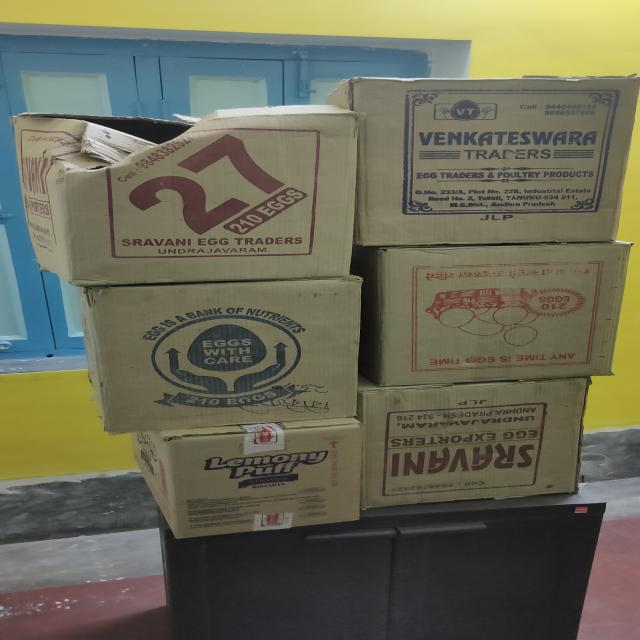squeeze: (23, 108, 237, 168)
